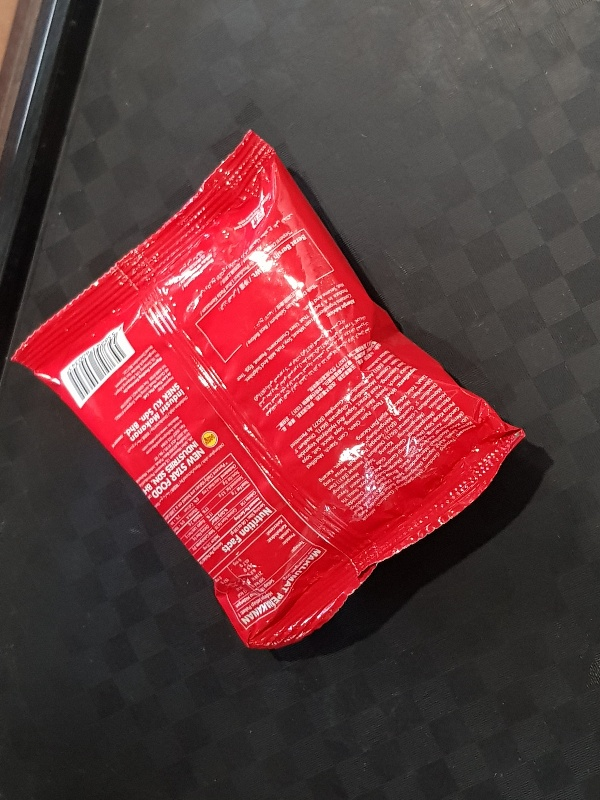ShoyueMi Spicy Flavoured Snacks: (10, 129, 525, 650)
